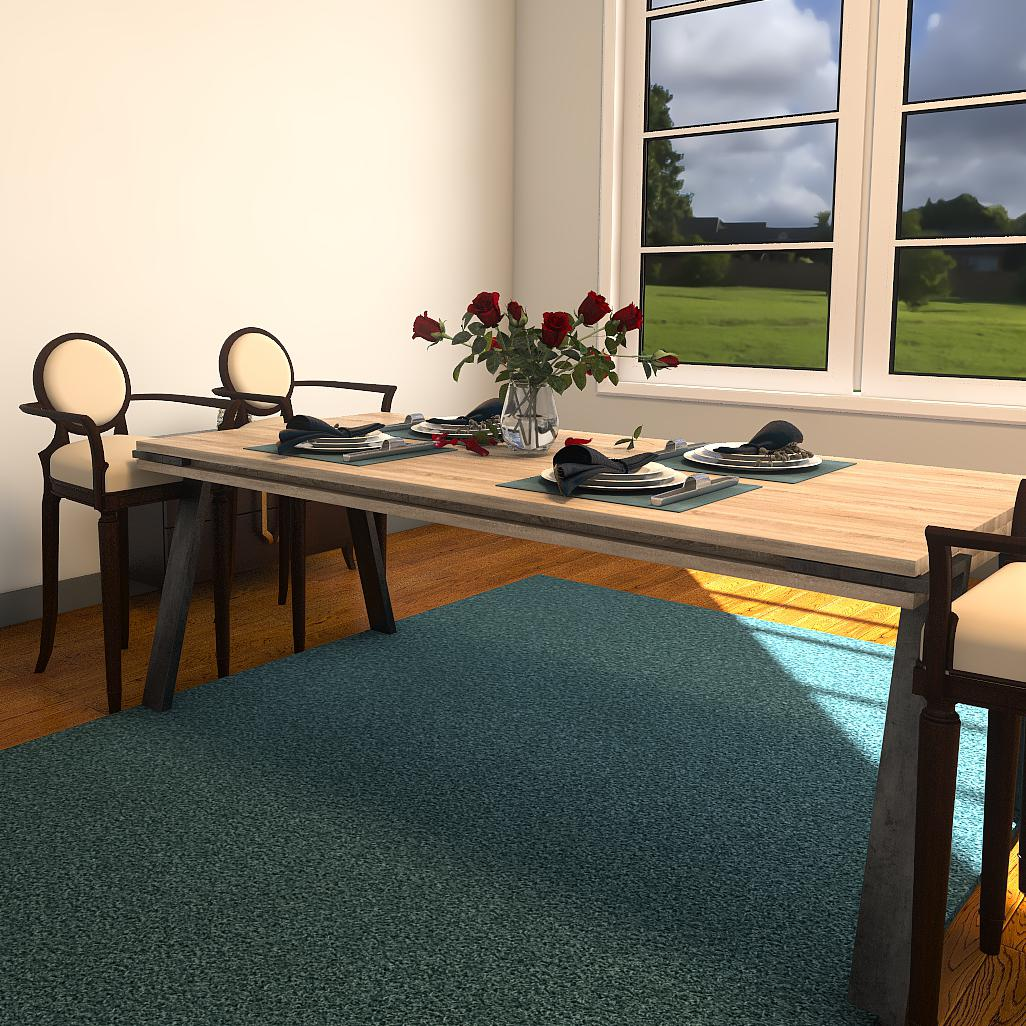table: (134, 406, 1026, 1016)
